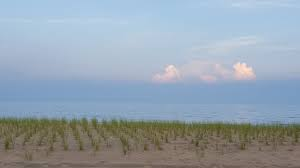field: (4, 122, 297, 167)
sea: (1, 99, 300, 122)
sky: (1, 1, 300, 100)
